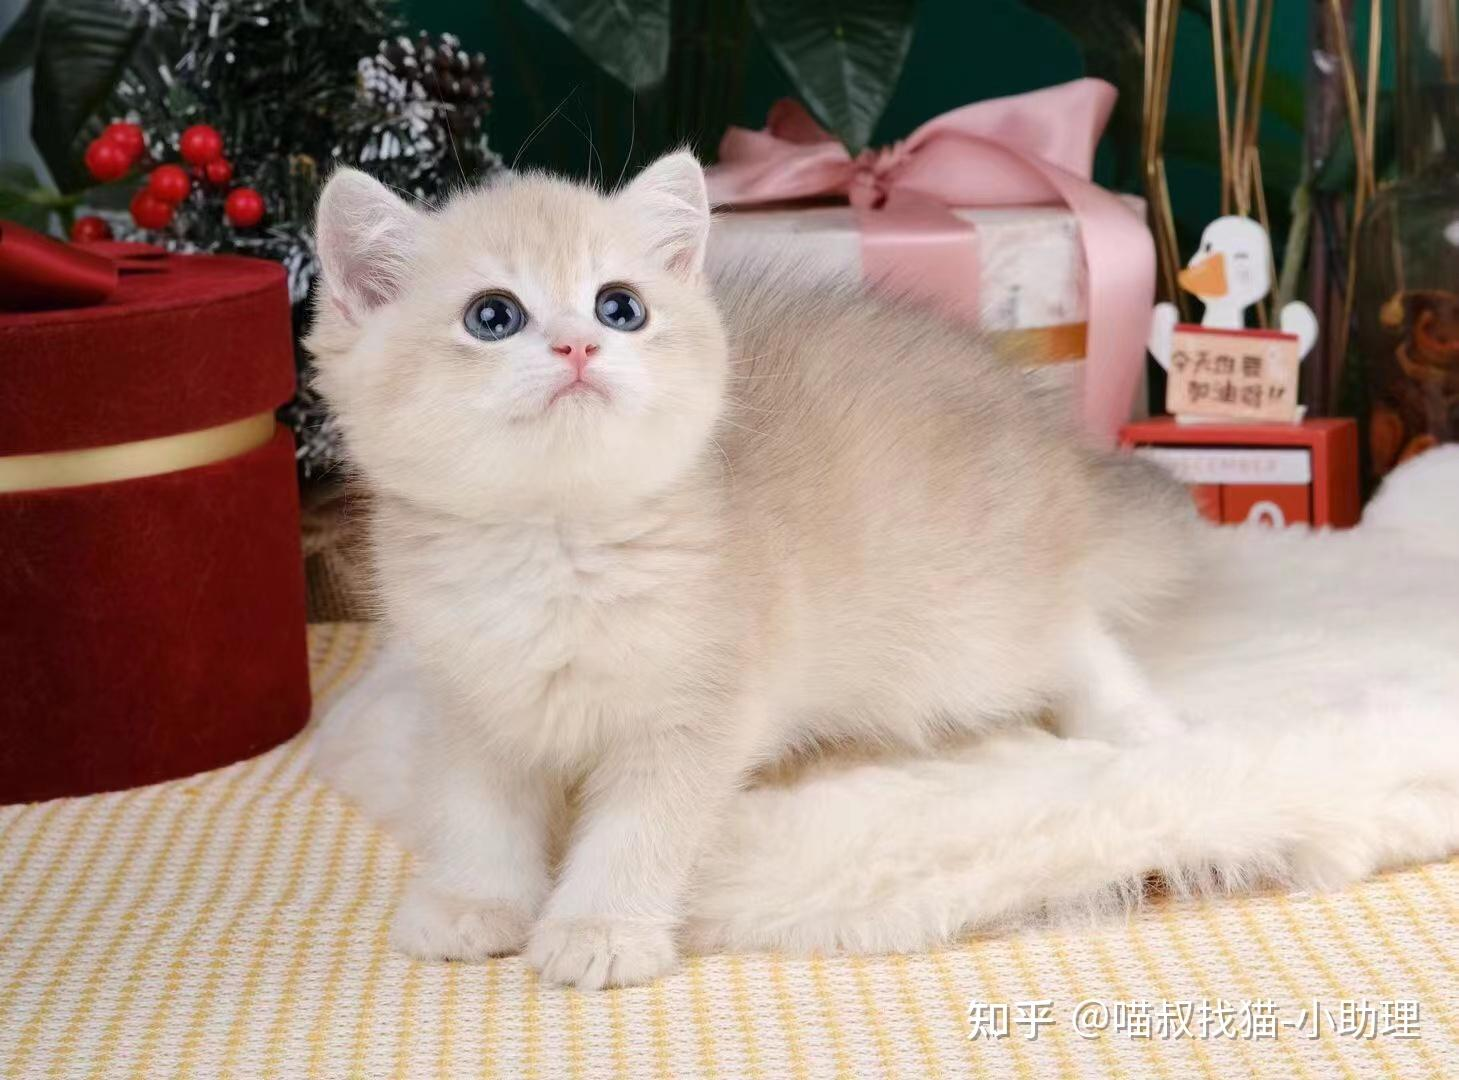cat: (297, 138, 739, 524)
